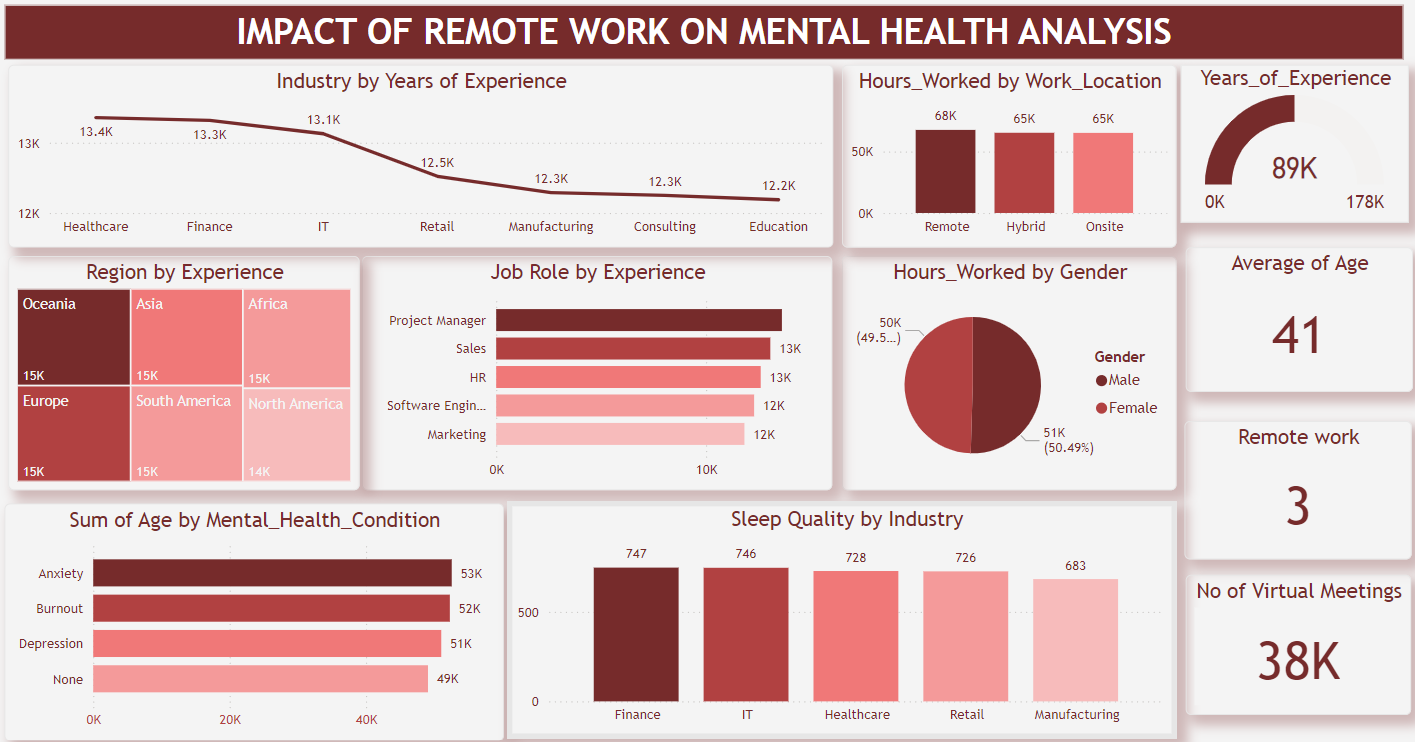

This screenshot's page, from the dashboard's own definition file:
{"tool":"powerbi","page":{"name":"Page 1","canvas":[1280,720],"ordinal":0},"visuals":[{"type":"textbox","box":[6.8,53,1261.2,49.6],"z":0},{"type":"lineChart","title":"Industry by Years of Experience","fields":{"Y":["Sum(Impact_of_Remote_Work_on_Mental_Health.Years_of_Experience)"],"Category":["Impact_of_Remote_Work_on_Mental_Health.Industry"]},"box":[9.6,107,743.7,164.7],"z":1000},{"type":"pieChart","title":"Hours_Worked by Gender","fields":{"Y":["Sum(Impact_of_Remote_Work_on_Mental_Health.Hours_Worked_Per_Week)"],"Category":["Impact_of_Remote_Work_on_Mental_Health.Gender"]},"box":[761.6,279.9,301.9,211.3],"z":2000},{"type":"barChart","title":"Job Role by Experience","fields":{"Category":["Impact_of_Remote_Work_on_Mental_Health.Job_Role"],"Y":["Sum(Impact_of_Remote_Work_on_Mental_Health.Years_of_Experience)"]},"box":[329.3,279.9,424,211.3],"z":3000},{"type":"columnChart","title":"Hours_Worked by Work_Location","fields":{"Category":["Impact_of_Remote_Work_on_Mental_Health.Work_Location"],"Y":["Sum(Impact_of_Remote_Work_on_Mental_Health.Hours_Worked_Per_Week)"]},"box":[761.6,107,301.9,164.7],"z":4000},{"type":"treemap","title":" Region by Experience","fields":{"Group":["Impact_of_Remote_Work_on_Mental_Health.Region"],"Values":["Sum(Impact_of_Remote_Work_on_Mental_Health.Years_of_Experience)"]},"box":[9.6,279.9,317,211.3],"z":5000},{"type":"barChart","fields":{"Category":["Impact_of_Remote_Work_on_Mental_Health.Mental_Health_Condition"],"Y":["Sum(Impact_of_Remote_Work_on_Mental_Health.Age)"]},"box":[6.9,502.2,450.1,214.1],"z":6000},{"type":"gauge","title":"Years_of_Experience","fields":{"Y":["Sum(Impact_of_Remote_Work_on_Mental_Health.Years_of_Experience)"]},"box":[1067.6,107,205.8,142.7],"z":7000},{"type":"card","title":"Average of Age","fields":{"Values":["Avg(Impact_of_Remote_Work_on_Mental_Health.Age)"]},"box":[1071.7,271.7,204.5,130.4],"z":8000},{"type":"columnChart","title":"Sleep Quality by Industry","fields":{"Category":["Impact_of_Remote_Work_on_Mental_Health.Industry"],"Y":["CountNonNull(Impact_of_Remote_Work_on_Mental_Health.Sleep_Quality)"]},"box":[459.7,500.9,603.8,214.1],"z":9000},{"type":"card","title":"Remote work","fields":{"Values":["Count(Impact_of_Remote_Work_on_Mental_Health.Satisfaction_with_Remote_Work)"]},"box":[1070.3,428.1,204.5,124.9],"z":10000},{"type":"cardVisual","title":"No of Virtual Meetings","fields":{"Data":["Sum(Impact_of_Remote_Work_on_Mental_Health.Number_of_Virtual_Meetings)"]},"box":[1071.7,566.7,203.1,126.2],"z":11000}]}

Visuals, with their boxes on the page's 1280x720 design canvas (x1, y1, x2, y2). These are canvas units, not pixel positions in the 1415x742 screenshot, which may show the page scaled, cropped or inside an application window:
textbox: (x1=7, y1=53, x2=1268, y2=103)
"Industry by Years of Experience" lineChart: (x1=10, y1=107, x2=753, y2=272)
"Hours_Worked by Gender" pieChart: (x1=762, y1=280, x2=1064, y2=491)
"Job Role by Experience" barChart: (x1=329, y1=280, x2=753, y2=491)
"Hours_Worked by Work_Location" columnChart: (x1=762, y1=107, x2=1064, y2=272)
" Region by Experience" treemap: (x1=10, y1=280, x2=327, y2=491)
barChart - Impact_of_Remote_Work_on_Mental_Health.Mental_Health_Condition x Sum(Impact_of_Remote_Work_on_Mental_Health.Age): (x1=7, y1=502, x2=457, y2=716)
"Years_of_Experience" gauge: (x1=1068, y1=107, x2=1273, y2=250)
"Average of Age" card: (x1=1072, y1=272, x2=1276, y2=402)
"Sleep Quality by Industry" columnChart: (x1=460, y1=501, x2=1064, y2=715)
"Remote work" card: (x1=1070, y1=428, x2=1275, y2=553)
"No of Virtual Meetings" cardVisual: (x1=1072, y1=567, x2=1275, y2=693)
